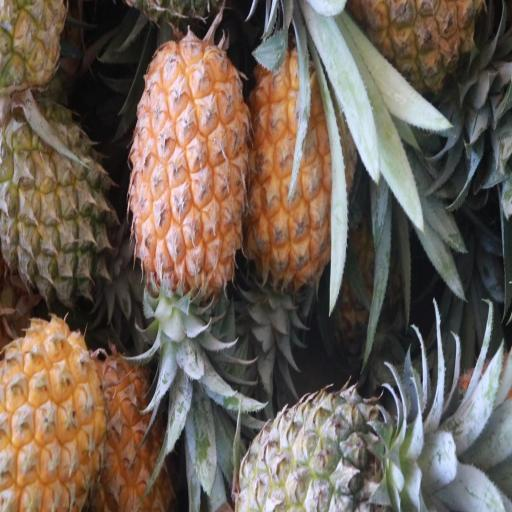------------------------------: (0, 101, 107, 305)
Pineapple - v8 v1: (128, 40, 248, 294), (246, 46, 350, 279), (0, 318, 101, 510)
